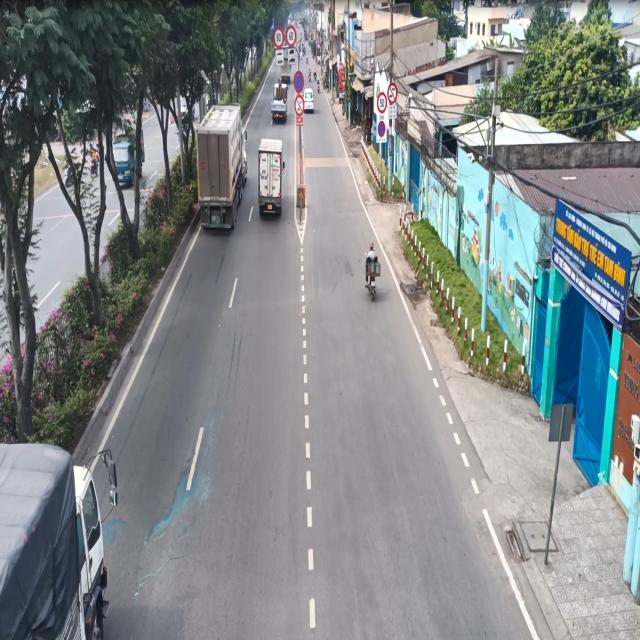motor: (360, 235, 383, 301)
truck: (194, 95, 254, 247), (256, 135, 283, 227), (270, 70, 290, 121)
